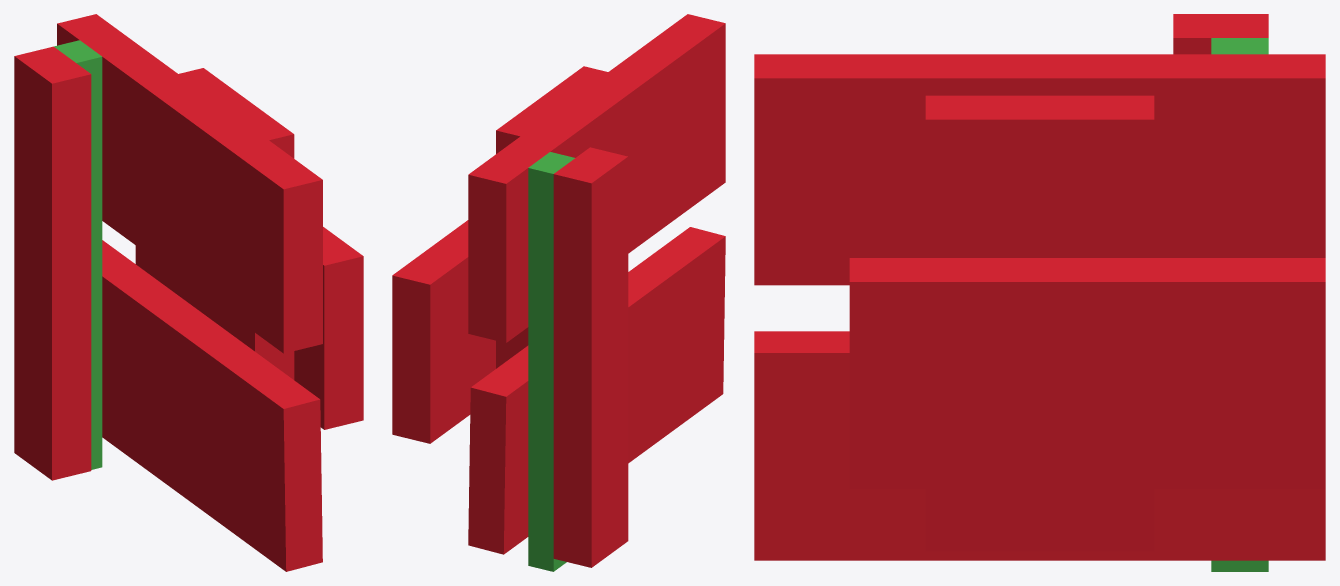
File: tinker.obj
3 views of the same model, side by side, from view 1: azimuth 30°, elevation 25°; view 2: azimuth 150°, elevation 25°; view 3: azimuth 270°, elevation 25° (orthographic). The views are drawn at different scales.
Visible parts, largest first — view 1: group_0_15277357, group_0_4634441; view 2: group_0_15277357, group_0_4634441; view 3: group_0_15277357, group_0_4634441.
Boxes of the visible parts, box(x1,y1,x2,y2) form: group_0_15277357: box(14, 14, 363, 571); group_0_4634441: box(54, 40, 102, 469); group_0_15277357: box(392, 14, 725, 567); group_0_4634441: box(528, 152, 574, 571); group_0_15277357: box(754, 14, 1325, 560); group_0_4634441: box(1211, 38, 1268, 571).
Size of the model in its own units: 14 by 30 by 30.
